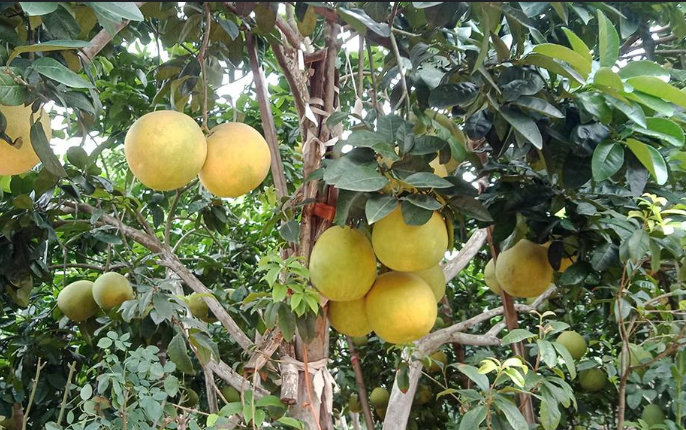buoi: (123, 101, 207, 194), (372, 187, 453, 274), (198, 118, 273, 200), (366, 278, 440, 350), (0, 92, 57, 185), (308, 223, 375, 302), (497, 230, 556, 301), (317, 290, 373, 341), (87, 265, 138, 315), (60, 274, 93, 321), (185, 289, 232, 322), (554, 325, 591, 362), (638, 399, 668, 426), (579, 367, 611, 392)
